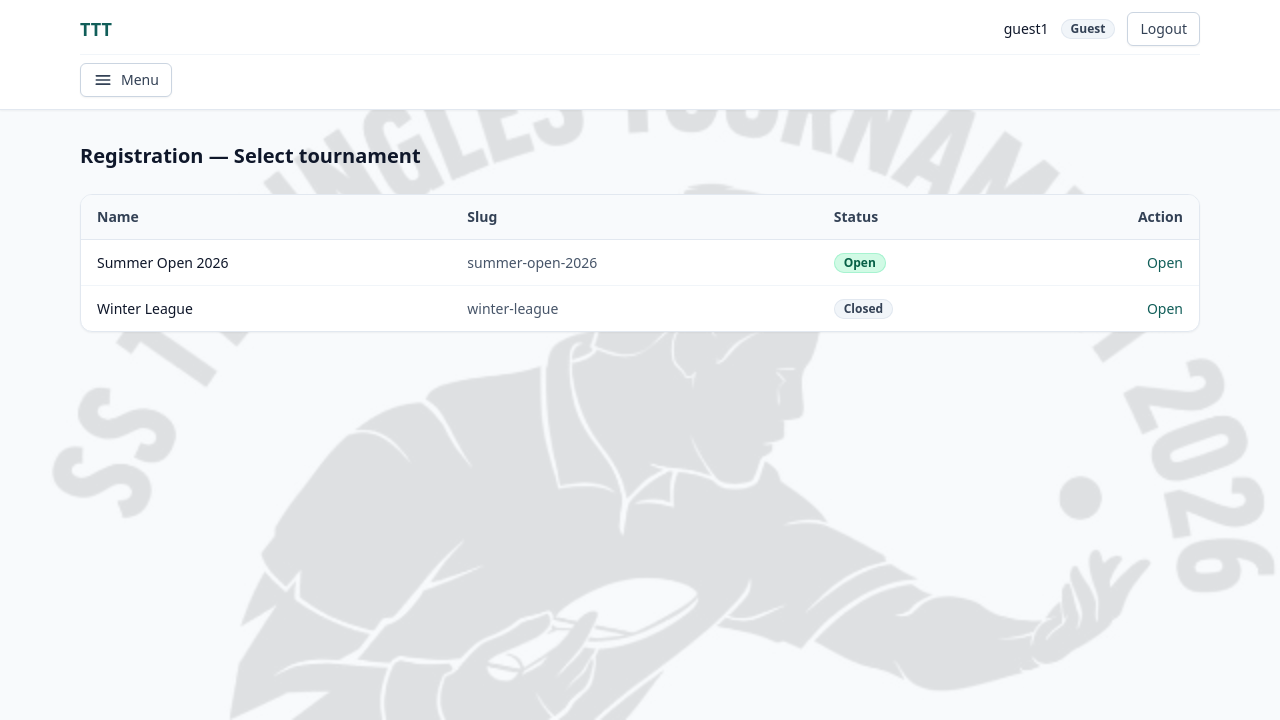
it: Registration tournament picker › lists tournaments and opens the registration screen
Expected: the heading "Registration — Select tournament" is shown, [80,142,421,170]
Expected: the text "Summer Open 2026" is shown, [81,240,451,286]
Step 1. Click the link "Open" in the row of "Summer Open 2026" → (1165, 262), box [1147,252,1183,272]
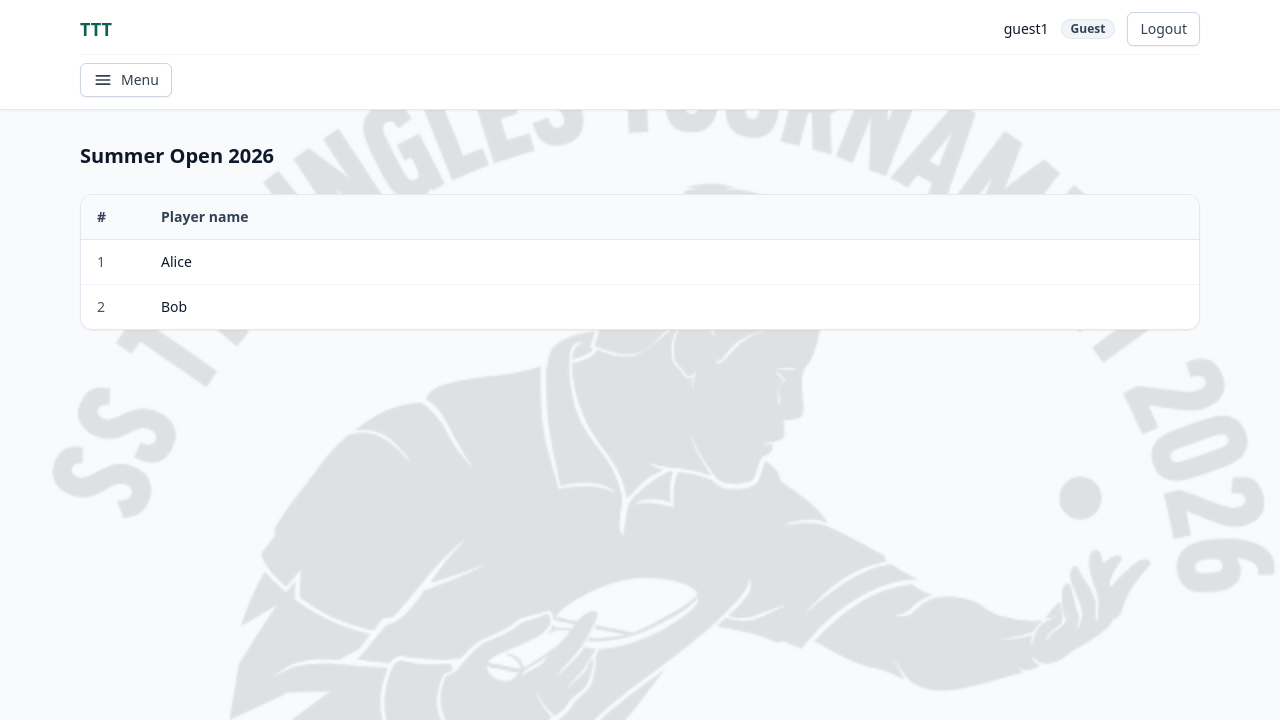
Expected: the heading "Summer Open 2026" is shown, [80,142,274,170]
Expected: the text "Alice" is shown, [145,240,1199,284]
Expected: the text "Bob" is shown, [145,284,1199,329]
